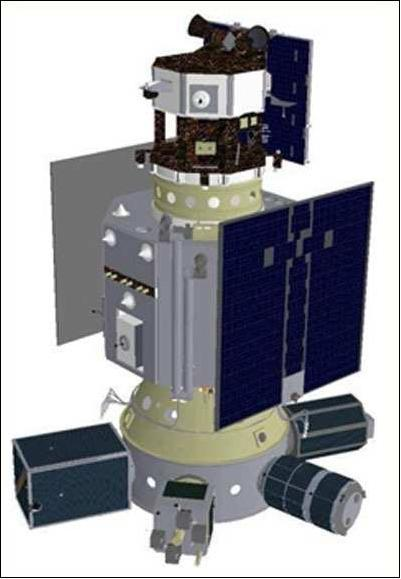antenna: (188, 89, 212, 111), (137, 241, 155, 268), (111, 200, 132, 221), (140, 80, 160, 102), (100, 228, 119, 249), (118, 290, 137, 311)
body: (101, 183, 298, 524)
solar: (210, 180, 375, 436), (48, 135, 183, 347), (28, 453, 130, 530), (263, 30, 316, 167), (12, 422, 127, 470), (263, 454, 326, 523), (310, 472, 355, 534), (299, 426, 368, 458), (283, 392, 362, 414), (295, 409, 366, 433)
thruster: (185, 12, 213, 40)
